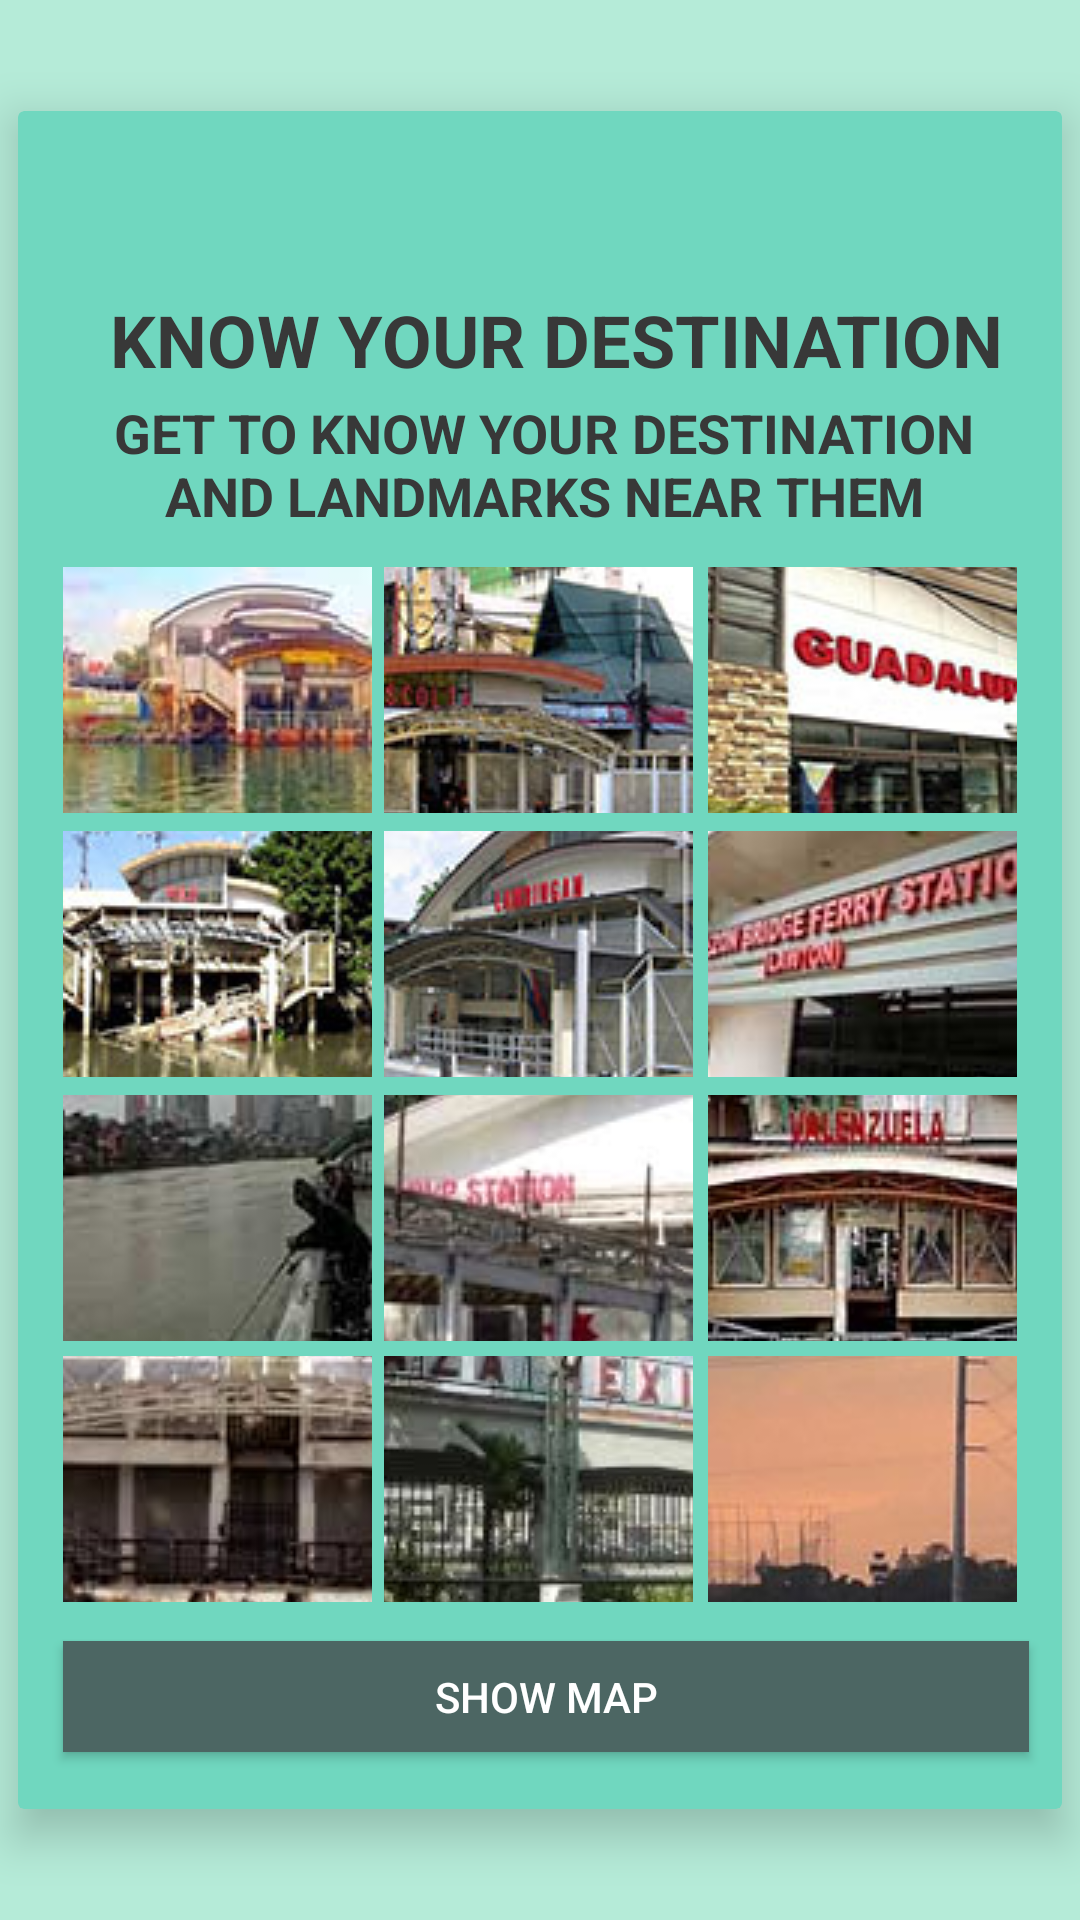

Screen size 1080*1920. Icon name, then its box in pixels as bbox=[x1, y1, x2, y2]:
escolta: bbox=[384, 567, 693, 813]
